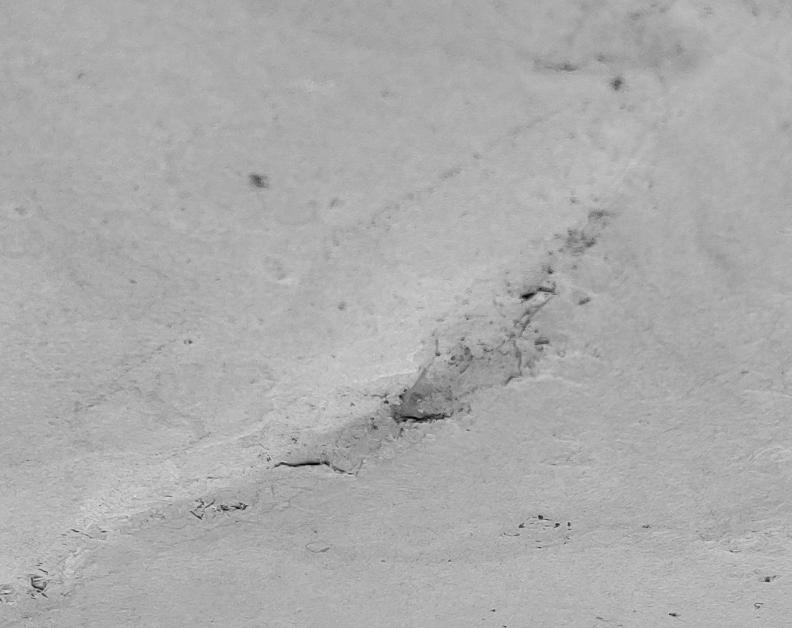dent: (1, 1, 792, 628)
